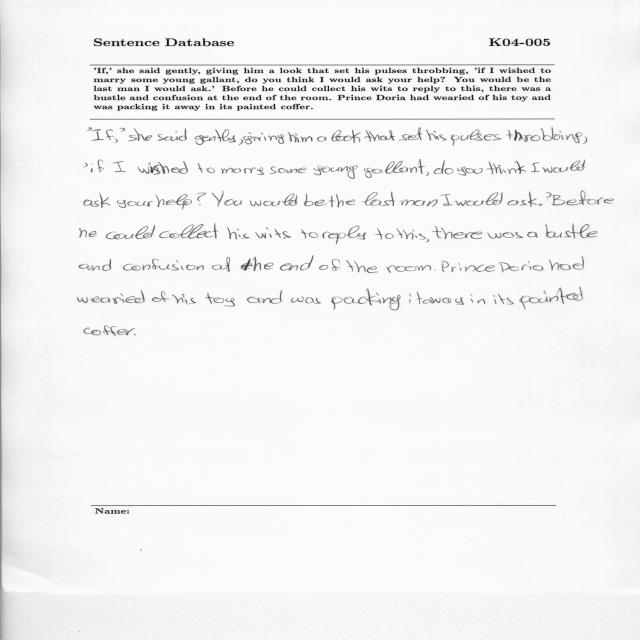word: (331, 289, 401, 311), (519, 288, 583, 310), (506, 127, 582, 143), (364, 160, 425, 179), (123, 259, 204, 271), (546, 191, 614, 205), (159, 223, 218, 239), (78, 290, 145, 304), (451, 129, 501, 146), (323, 226, 367, 244), (546, 224, 598, 239), (138, 161, 188, 175), (454, 192, 503, 206), (106, 225, 155, 239), (195, 129, 236, 145), (432, 226, 482, 239), (313, 165, 358, 179), (416, 292, 464, 305), (442, 261, 496, 272), (155, 194, 192, 210), (543, 159, 585, 173), (250, 194, 297, 206), (499, 261, 543, 273), (549, 256, 584, 271), (280, 256, 314, 271), (84, 326, 135, 336), (487, 161, 526, 174), (243, 132, 284, 144), (247, 290, 282, 304), (212, 191, 242, 207), (361, 192, 395, 206), (508, 191, 537, 207), (241, 257, 274, 271), (205, 292, 235, 307), (255, 227, 291, 239), (346, 260, 379, 273), (331, 130, 361, 143), (84, 193, 110, 208), (79, 259, 111, 271), (329, 194, 355, 208), (365, 130, 395, 142), (387, 265, 431, 273), (158, 129, 187, 141), (397, 228, 426, 240), (221, 167, 264, 175), (399, 127, 422, 141), (128, 128, 152, 141), (400, 199, 438, 207), (227, 227, 250, 240), (270, 166, 307, 174), (117, 200, 153, 208), (304, 194, 328, 206), (434, 160, 454, 174), (212, 257, 230, 272), (172, 294, 196, 305), (426, 129, 447, 141), (487, 232, 523, 239), (319, 259, 340, 271), (288, 132, 313, 142), (87, 127, 104, 141), (457, 167, 483, 176), (375, 228, 394, 240), (291, 297, 321, 304), (493, 294, 514, 304), (152, 291, 170, 302), (198, 163, 215, 173), (301, 229, 318, 239), (470, 294, 486, 304), (80, 229, 97, 238), (113, 161, 126, 172), (441, 194, 452, 206), (198, 193, 207, 205), (84, 163, 93, 173), (106, 129, 114, 140), (531, 162, 539, 172), (98, 160, 104, 173), (527, 232, 538, 238), (317, 136, 327, 142), (546, 192, 552, 198), (583, 137, 587, 145), (238, 139, 243, 145), (120, 128, 125, 132), (409, 294, 411, 304), (115, 138, 118, 143), (426, 172, 429, 176), (426, 239, 429, 242), (539, 204, 542, 206), (134, 334, 136, 336), (434, 270, 436, 271)
